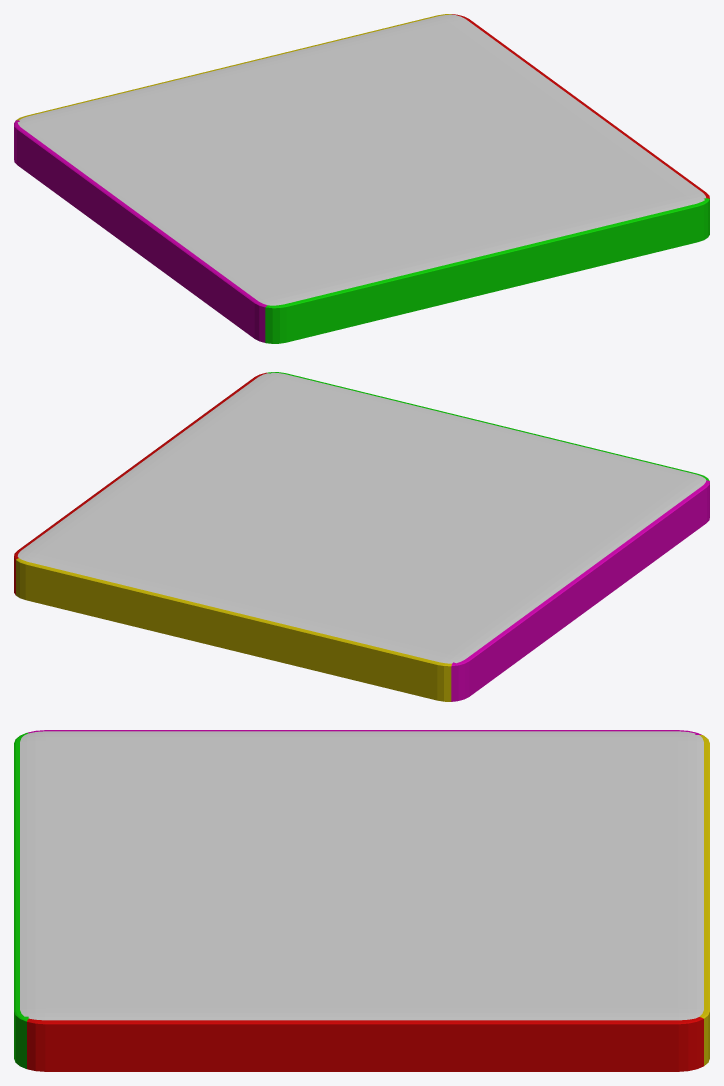
File: ref_cube.obj
3 views of the same model, one above another, from view 1: azimuth 30°, elevation 25°; view 2: azimuth 150°, elevation 25°; view 3: azimuth 270°, elevation 25° (orthographic). The views are drawn at different scales.
Visible parts, largest first — view 1: Cube; view 2: Cube; view 3: Cube.
Boxes of the visible parts, left/top/right/bottom form: Cube: left=14, top=14, right=709, bottom=343; Cube: left=14, top=372, right=709, bottom=701; Cube: left=14, top=730, right=709, bottom=1071.
Size of the model in its own units: 2 by 0.1655 by 2.
